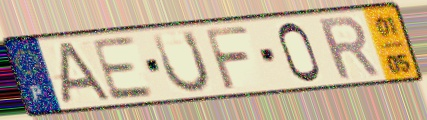0: (277, 20, 323, 85)
A: (57, 40, 115, 106)
E: (88, 34, 158, 103)
F: (202, 24, 255, 93)
R: (314, 13, 384, 83)
U: (149, 28, 213, 96)
